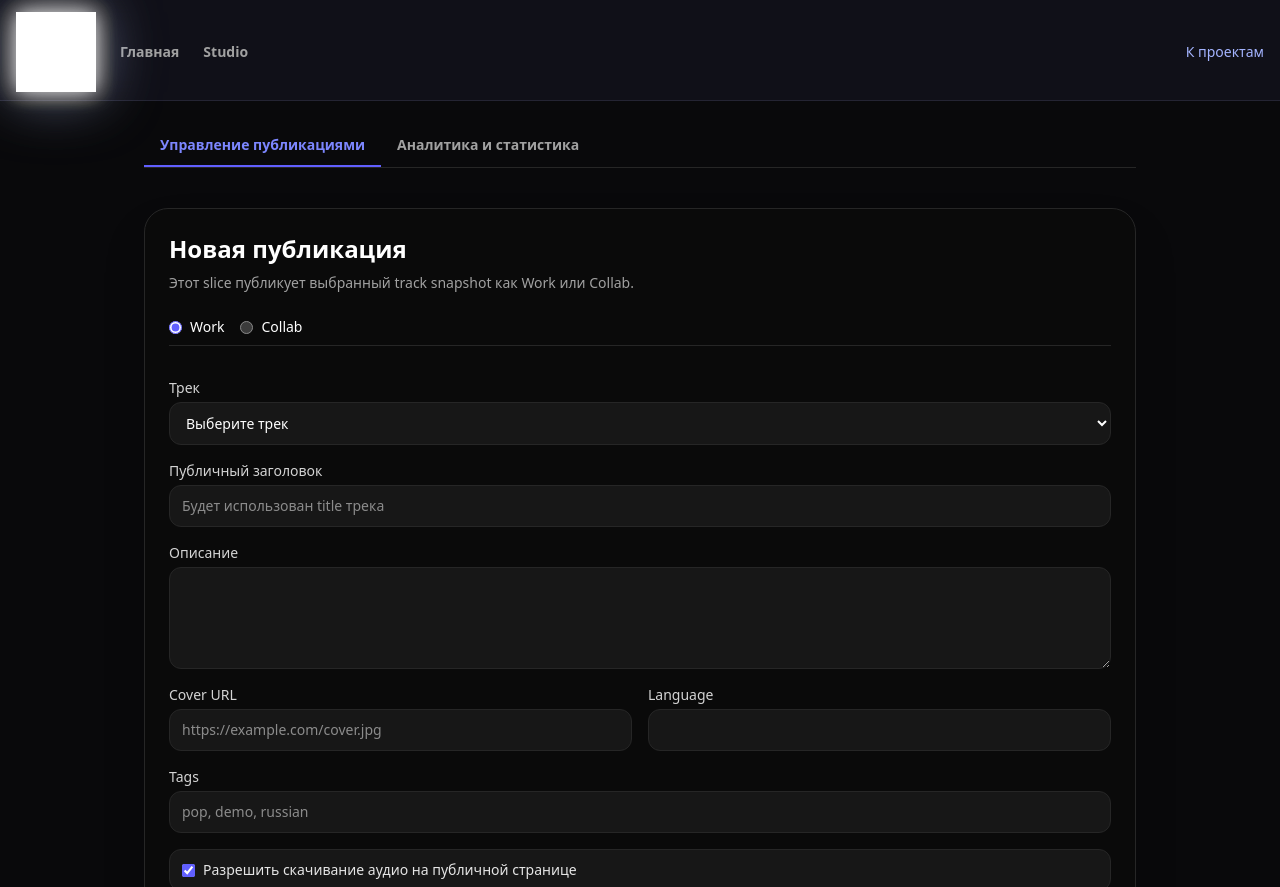
Test: PublicationManagerPage › creates and archives a work publication from an editor-owned track
Select "Album / Song A (1 ready assets)" in the dropdown named "Track" at (640, 424), box [169,402,1111,445]
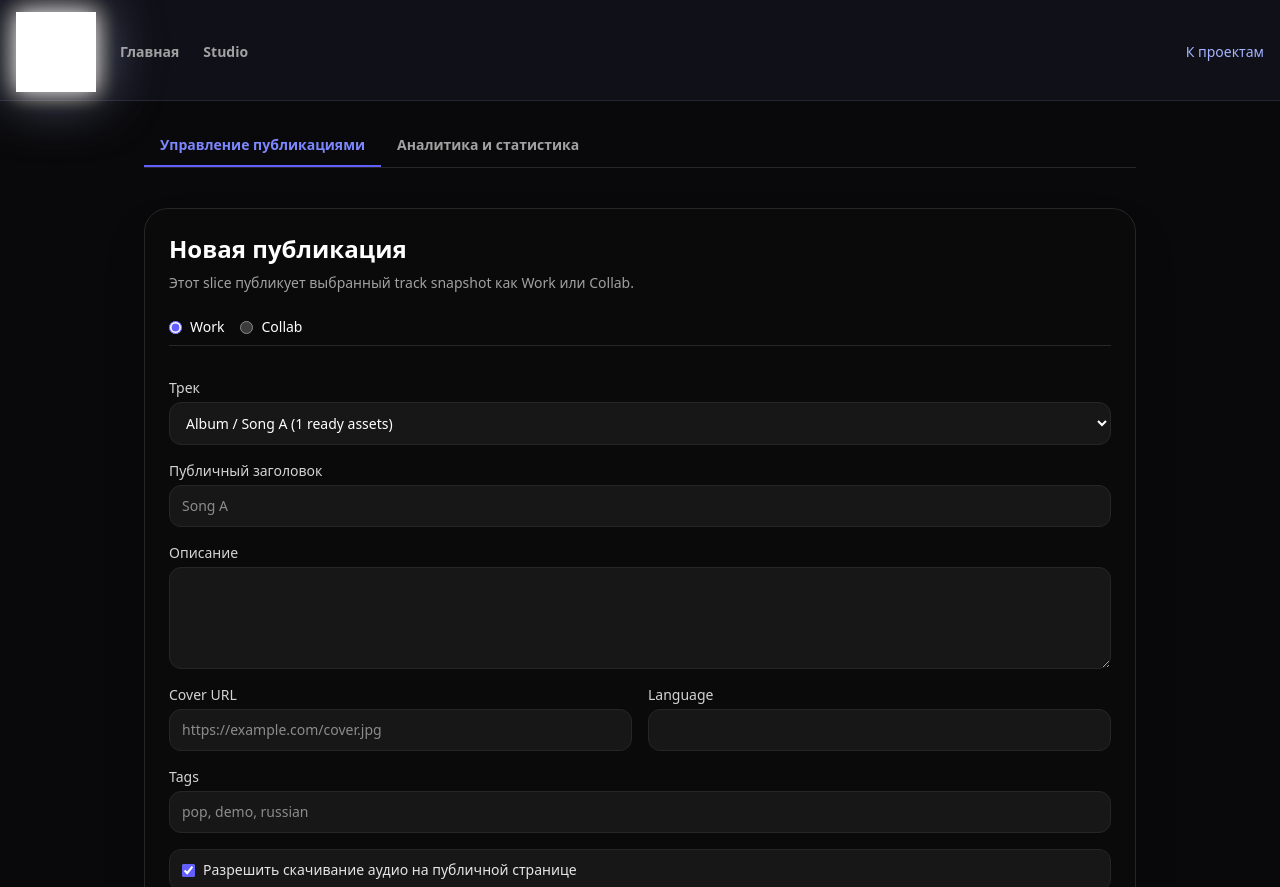
Type "Song A Public" into the field named "Publication title".
click(640, 506); type("Song A Public")  # box [169,485,1111,527]
(page scrolled)
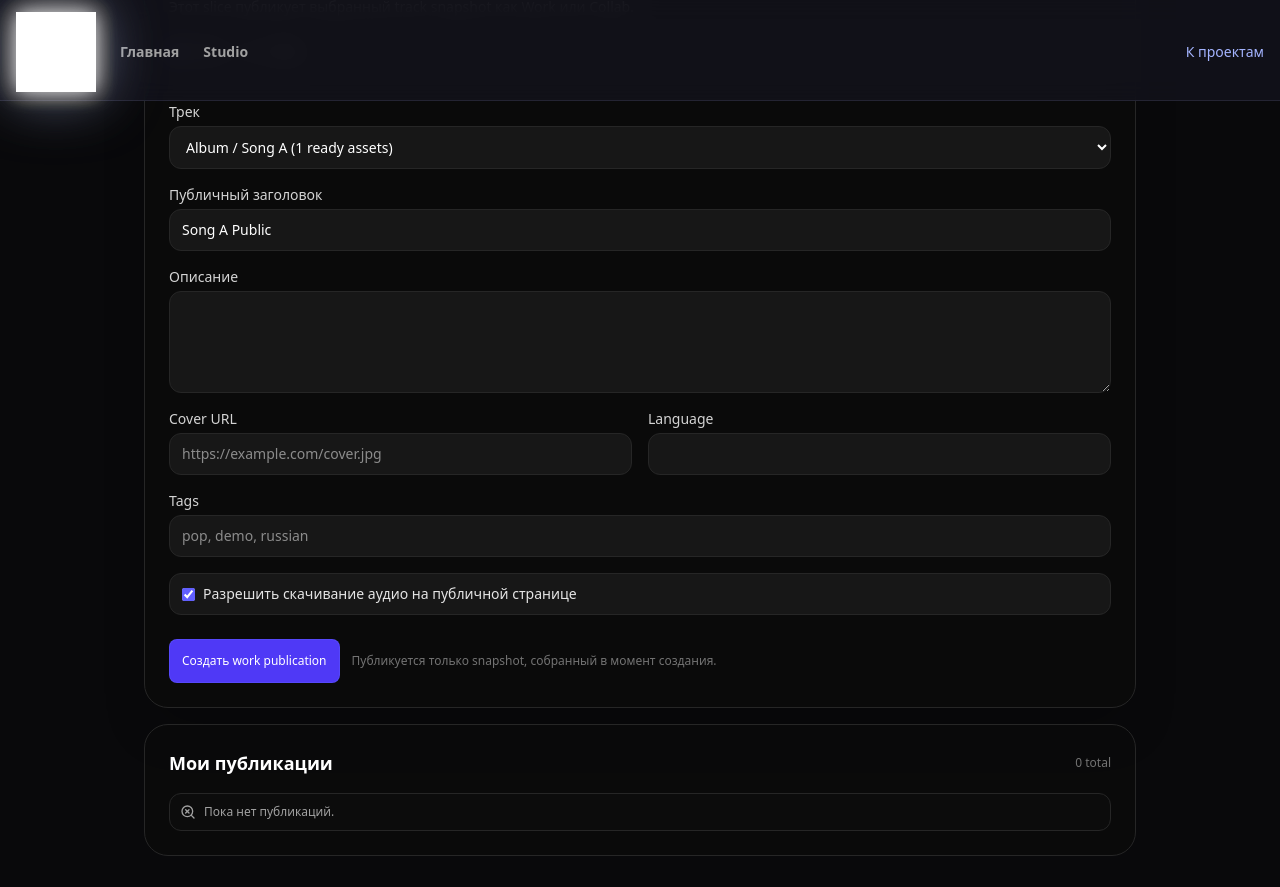
Click the button "Создать work publication".
click(254, 661)  # box [169,639,340,683]
(page scrolled)
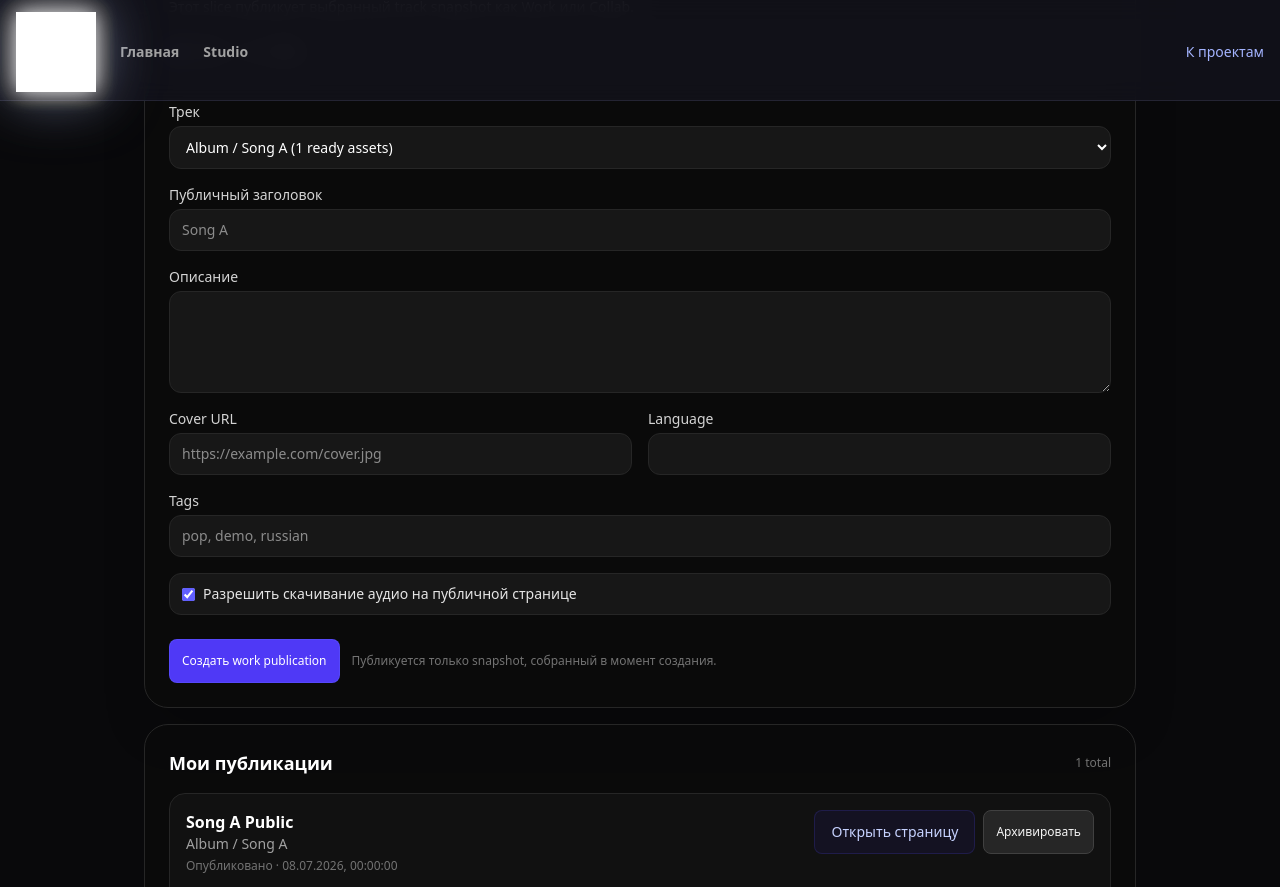
Click the button "Архивировать".
click(1039, 832)  # box [983,810,1094,854]
(page scrolled)
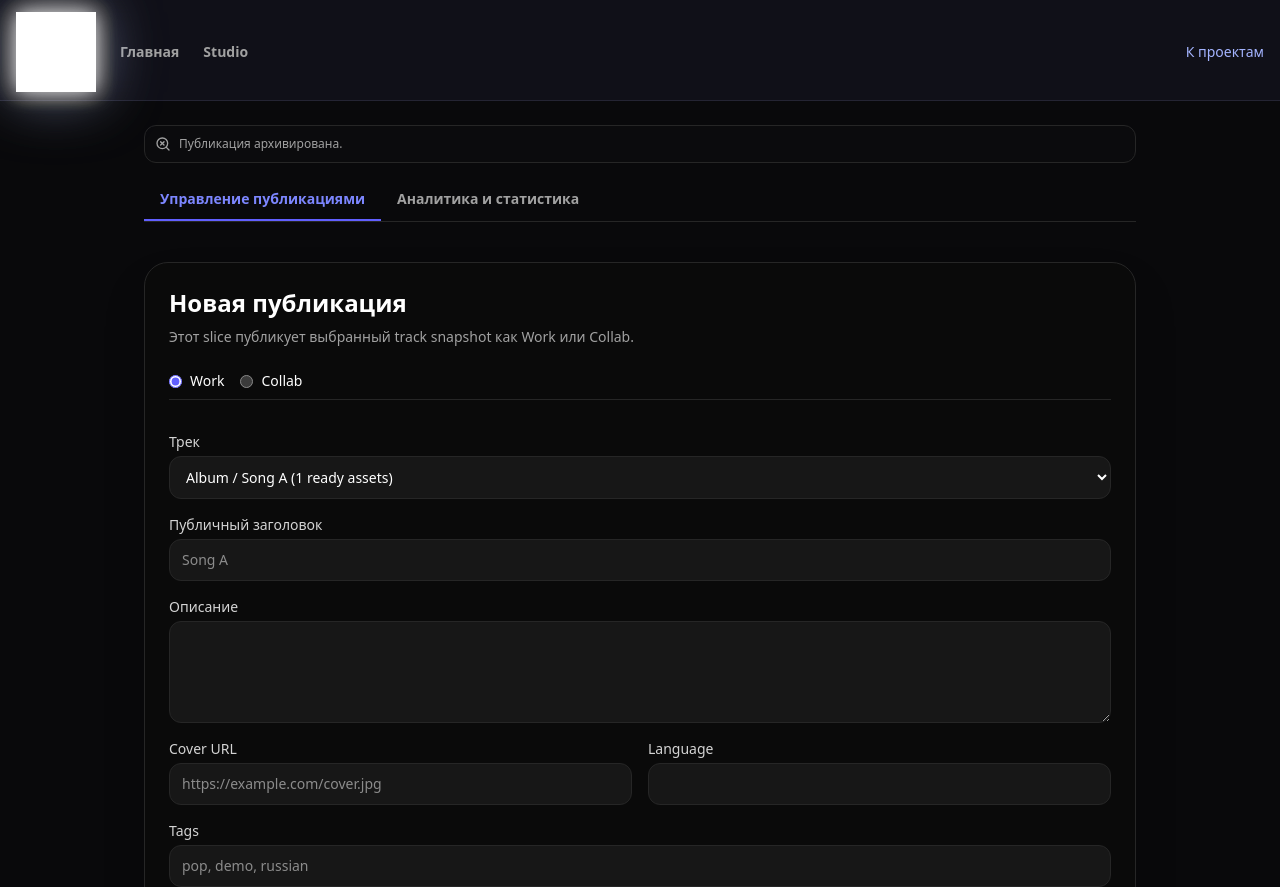
expect the text "Публикация архивирована." is shown: met, box [179,136,342,152]
